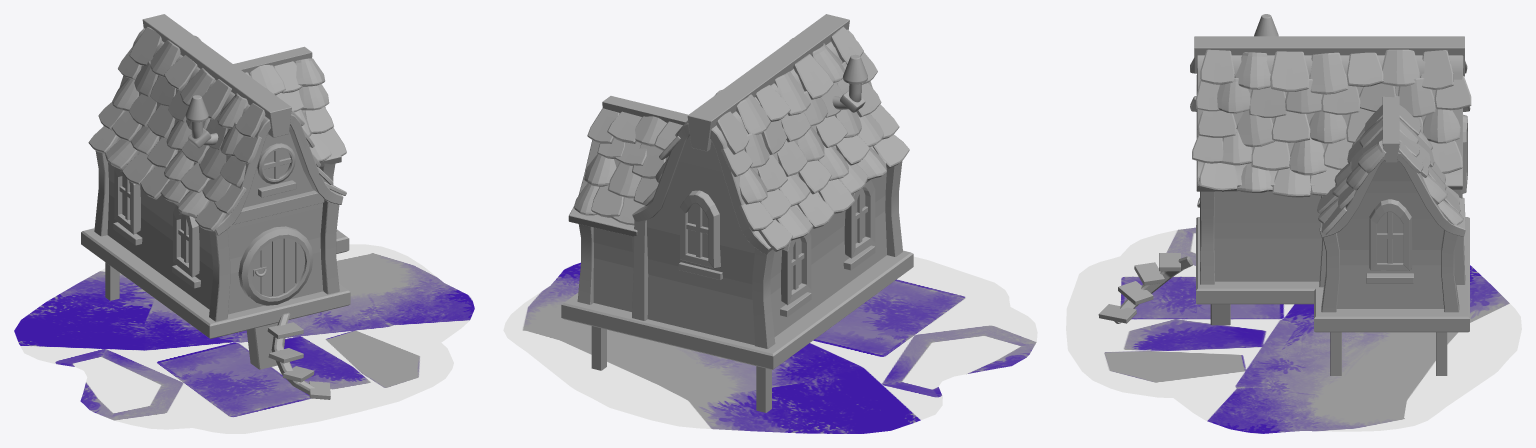
The model's file is houseFINALLLLLLL.fbx.
The picture shows the model from 3 angles, left to right: view 1: azimuth 30°, elevation 25°; view 2: azimuth 150°, elevation 25°; view 3: azimuth 270°, elevation 25°; orthographic projection. The views are drawn at different scales.
Parts seen in each view (by area): view 1: house5:house1_pooh_pooh_pCylinder2, house5:house1_pooh_pooh_pCylinder2pPlane2, house5:house1_pooh_pooh_pCylinder2polySurface7; view 2: house5:house1_pooh_pooh_pCylinder2, house5:house1_pooh_pooh_pCylinder2pPlane2, house5:house1_pooh_pooh_pCylinder2polySurface7; view 3: house5:house1_pooh_pooh_pCylinder2, house5:house1_pooh_pooh_pCylinder2pPlane2, house5:house1_pooh_pooh_pCylinder2polySurface7.
Part boxes in pixels (x1,y1,x2,y2): house5:house1_pooh_pooh_pCylinder2: (81, 14, 350, 399); house5:house1_pooh_pooh_pCylinder2pPlane2: (14, 244, 474, 433); house5:house1_pooh_pooh_pCylinder2polySurface7: (107, 131, 323, 314); house5:house1_pooh_pooh_pCylinder2: (561, 14, 913, 412); house5:house1_pooh_pooh_pCylinder2pPlane2: (503, 256, 1037, 433); house5:house1_pooh_pooh_pCylinder2polySurface7: (593, 135, 886, 345); house5:house1_pooh_pooh_pCylinder2: (1098, 14, 1471, 375); house5:house1_pooh_pooh_pCylinder2pPlane2: (1066, 227, 1521, 433); house5:house1_pooh_pooh_pCylinder2polySurface7: (1214, 159, 1443, 308).
Bounding box in the file's own units: 28.13 × 17.72 × 26.04.
